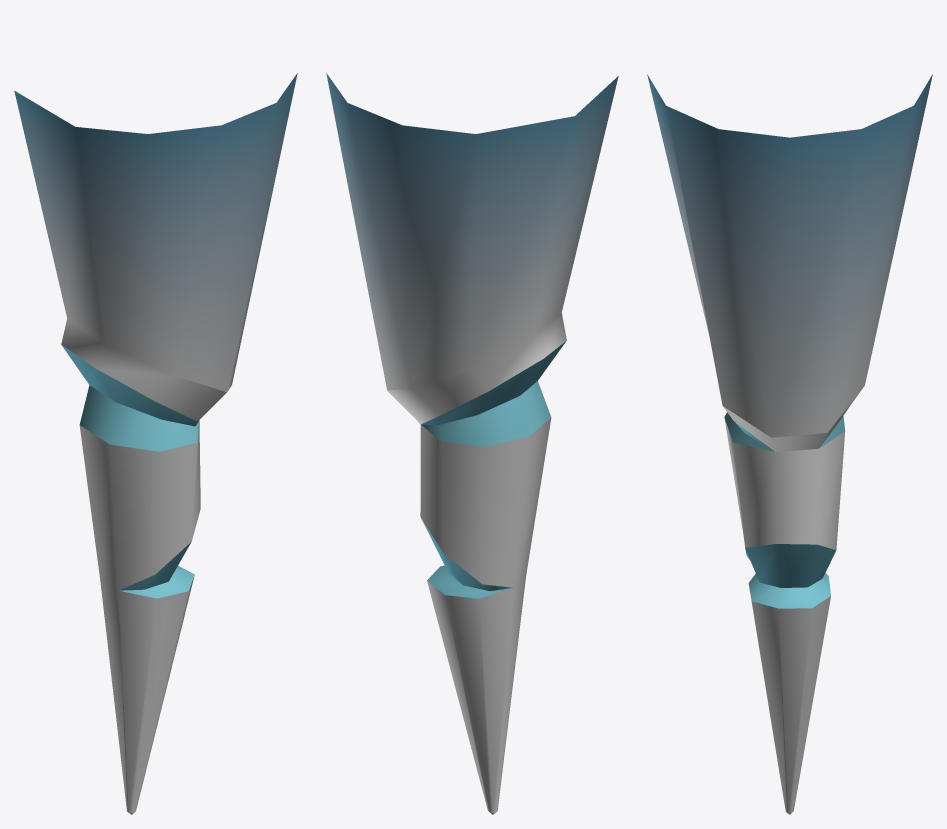
The model's file is IcicleA_0.glb.
3 views of the same model, side by side, from view 1: azimuth 30°, elevation 25°; view 2: azimuth 150°, elevation 25°; view 3: azimuth 270°, elevation 25° (orthographic). The views are drawn at different scales.
Visible parts, largest first — view 1: IcicleA; view 2: IcicleA; view 3: IcicleA.
Boxes of the visible parts, x1,y1,x2,y2 form: IcicleA: [14, 73, 297, 814]; IcicleA: [326, 73, 618, 814]; IcicleA: [647, 74, 932, 814].
Bounding box in the file's own units: 0.9493 × 2.69 × 0.9276.
